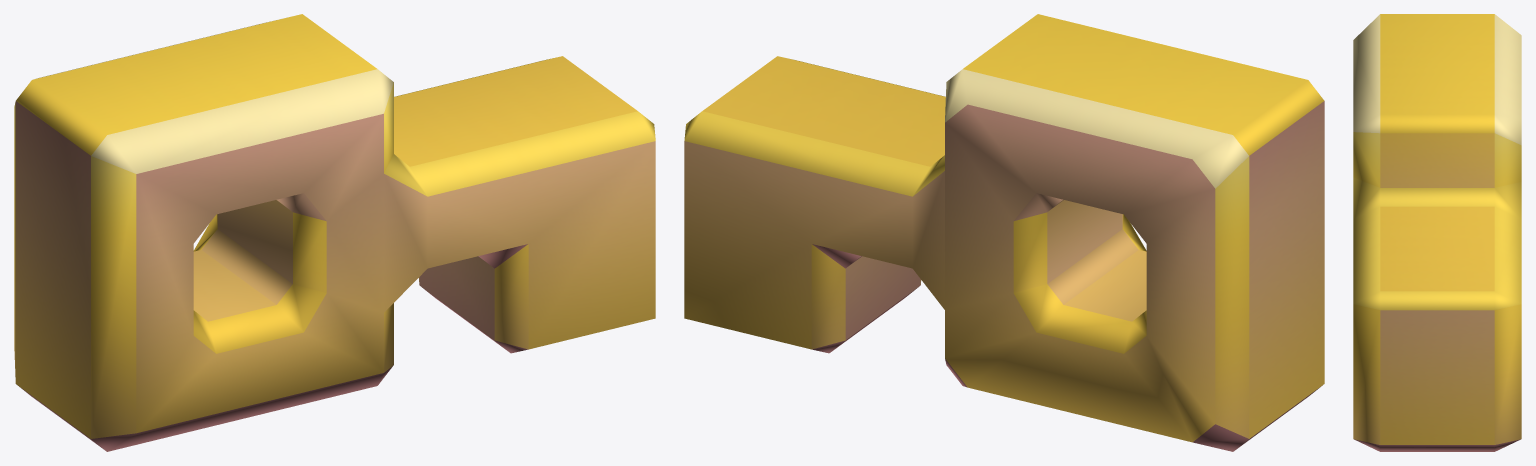
Rendered from key_gold_large.fbx.
The picture shows the model from 3 angles, left to right: view 1: azimuth 30°, elevation 25°; view 2: azimuth 150°, elevation 25°; view 3: azimuth 270°, elevation 25°; orthographic projection. The views are drawn at different scales.
Parts seen in each view (by area): view 1: key_gold_large; view 2: key_gold_large; view 3: key_gold_large.
Boxes of the visible parts, x1=… form: key_gold_large: x1=14, y1=14, x2=655, y2=451; key_gold_large: x1=684, y1=14, x2=1324, y2=451; key_gold_large: x1=1353, y1=14, x2=1521, y2=451.
Bounding box in the file's own units: 156 × 84.13 × 53.27.
